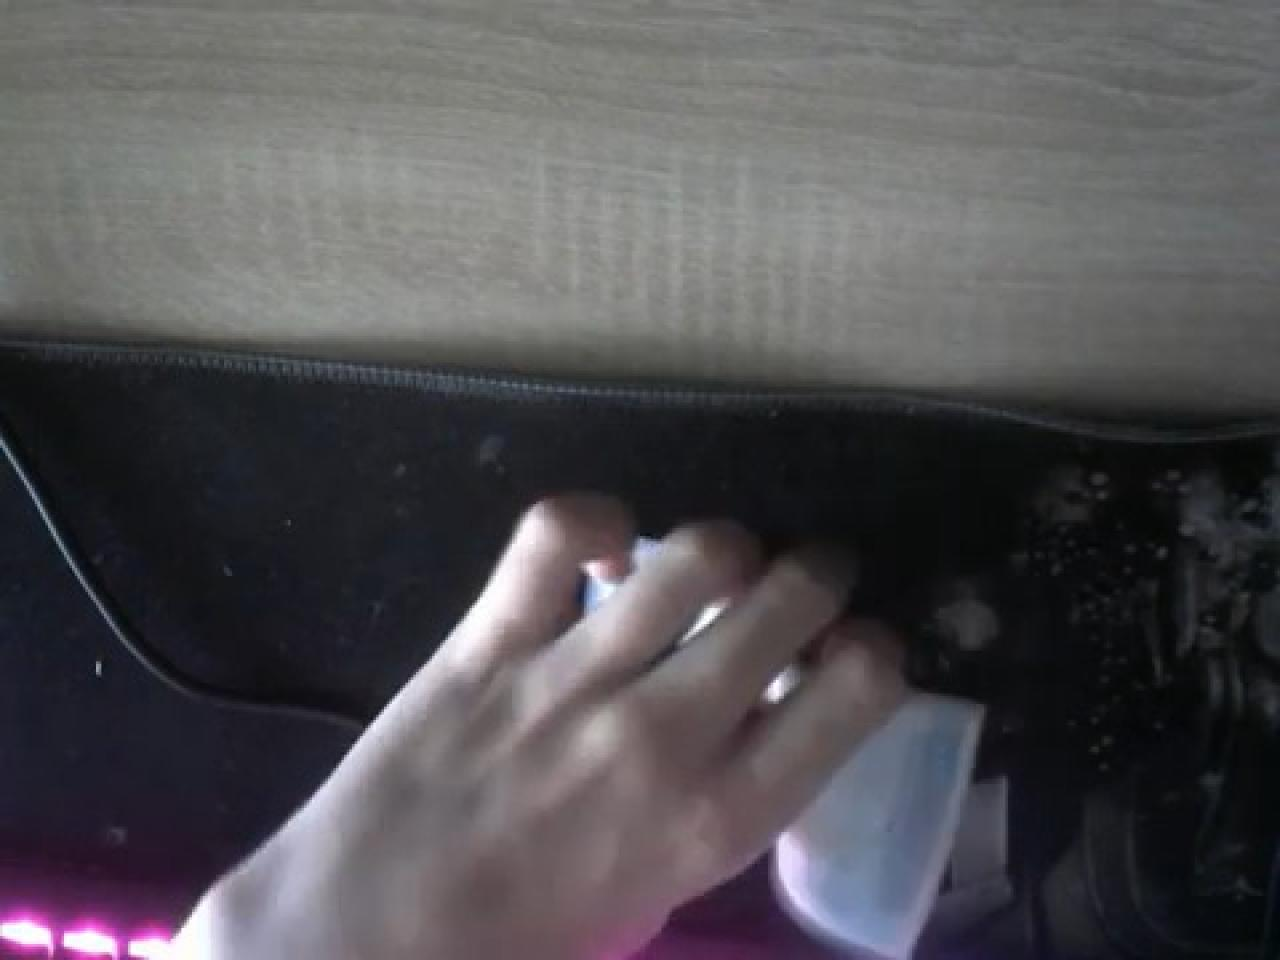20leva: (154, 488, 987, 960)
